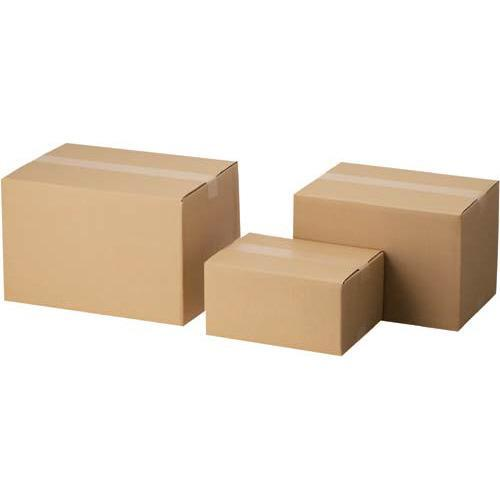box: (4, 136, 239, 324), (290, 154, 500, 333), (175, 229, 387, 361)
